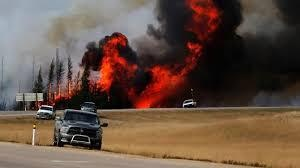fire: (88, 15, 226, 110), (47, 78, 76, 101)
